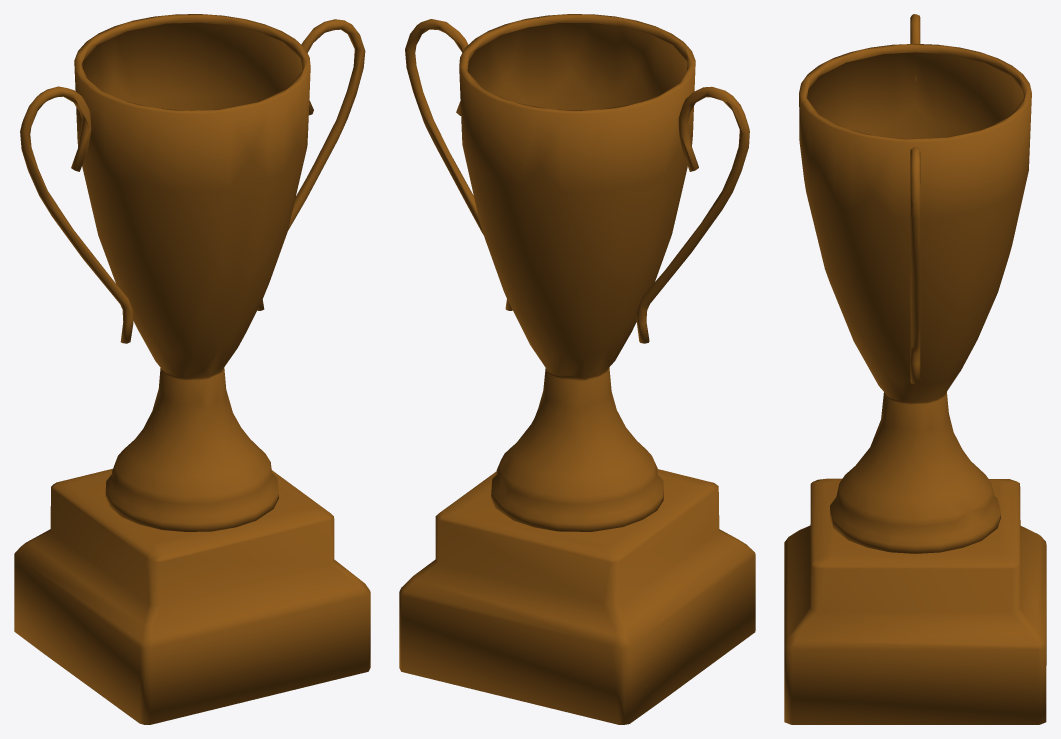
The model's file is Cup_redused_poly.fbx.
3 renders of one model, left to right at view 1: azimuth 30°, elevation 25°; view 2: azimuth 150°, elevation 25°; view 3: azimuth 270°, elevation 25°, orthographic.
Parts seen in each view (by area): view 1: BezierCurve.001; view 2: BezierCurve.001; view 3: BezierCurve.001.
Boxes of the visible parts, x1=… form: BezierCurve.001: x1=14, y1=14, x2=370, y2=724; BezierCurve.001: x1=399, y1=14, x2=755, y2=724; BezierCurve.001: x1=784, y1=14, x2=1046, y2=724.
Bounding box in the file's own units: 262 × 433 × 176.
